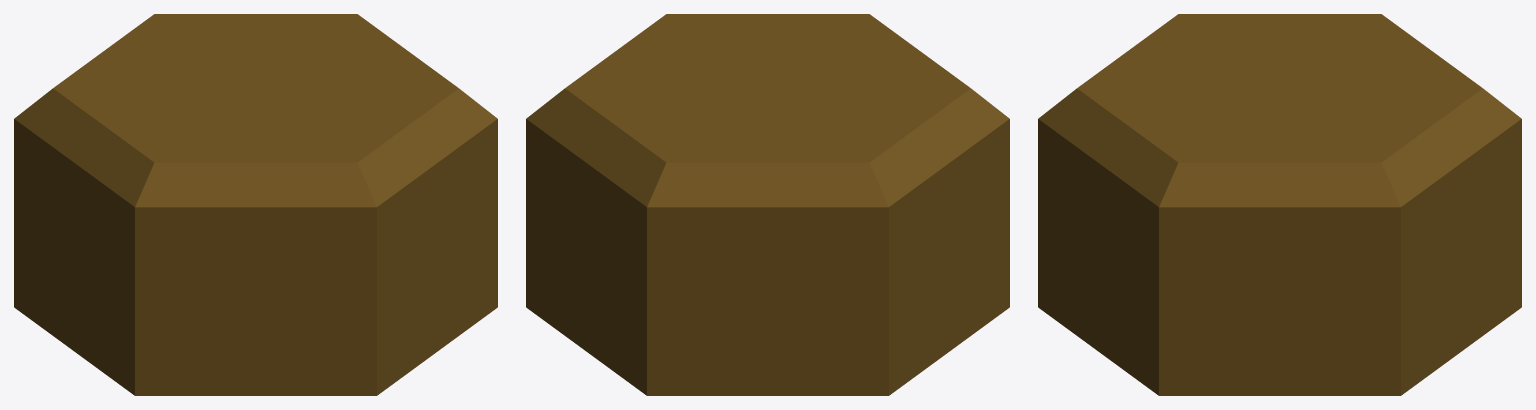
Rendered from HexTile.fbx.
3 renders of one model, left to right at view 1: azimuth 30°, elevation 25°; view 2: azimuth 150°, elevation 25°; view 3: azimuth 270°, elevation 25°, orthographic.
Parts seen in each view (by area): view 1: Tile; view 2: Tile; view 3: Tile.
Boxes of the visible parts, x1,y1,x2,y2 form: Tile: [14, 14, 497, 395]; Tile: [526, 14, 1009, 395]; Tile: [1038, 14, 1521, 395].
Bounding box in the file's own units: 1.99 × 1.15 × 2.3.
